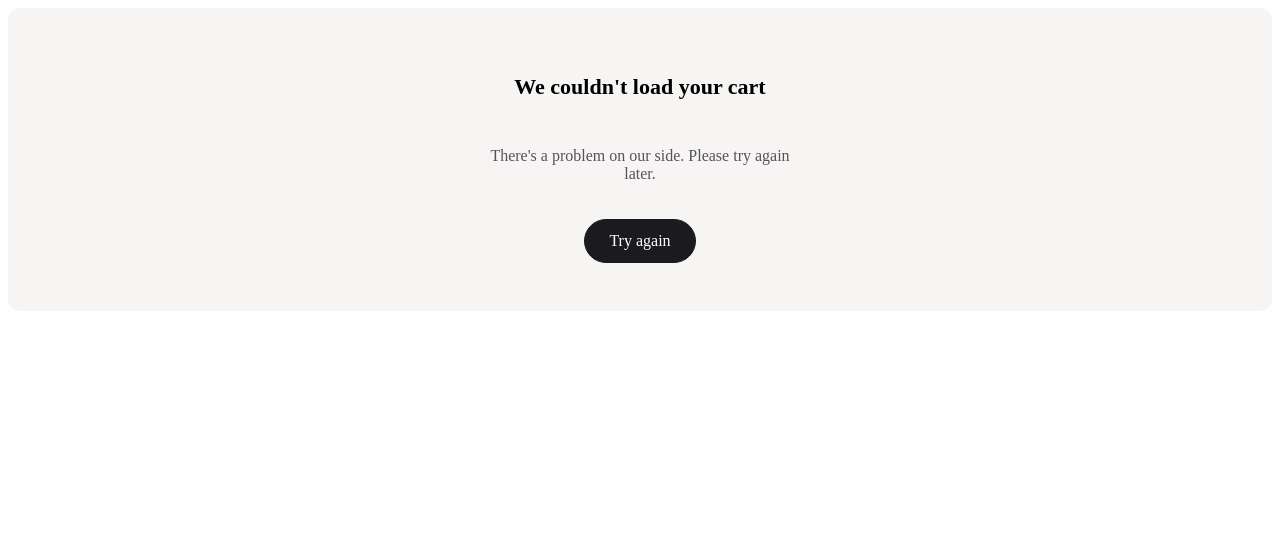
Test: CartPage › shows an error with retry
Expected: the heading reads "We couldn't load your cart", [514,74,766,99]
Expected: the message shows "There's a problem on our side. Please try again later.", [490,147,790,182]
Click the button "Try again": (640,241) [584,219,696,263]
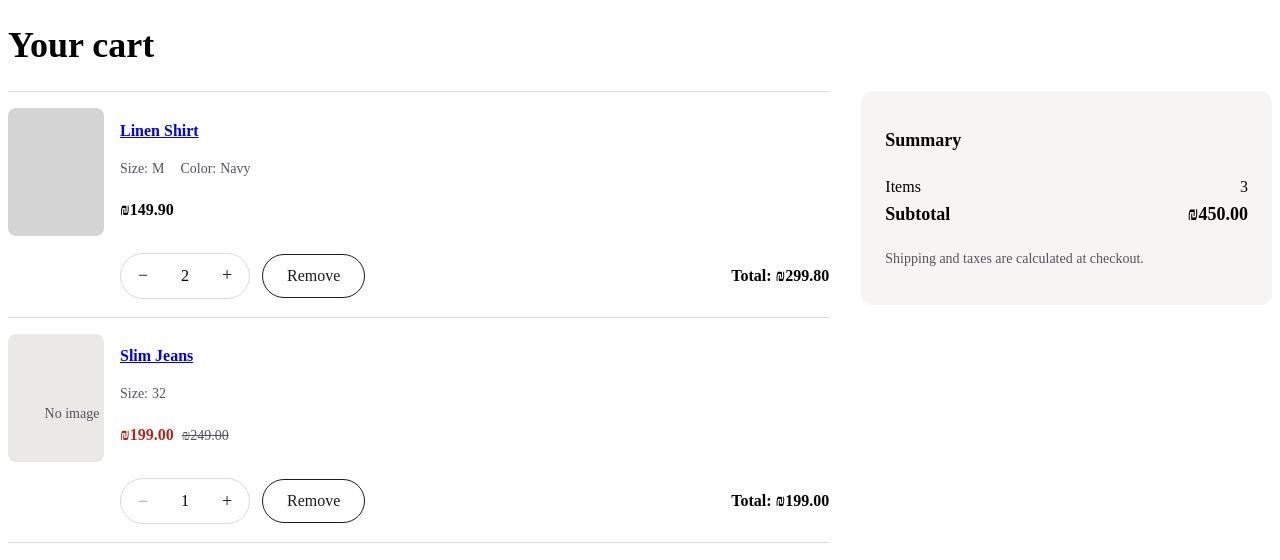
Now the heading "Linen Shirt" is shown, box [120,122,199,139]
